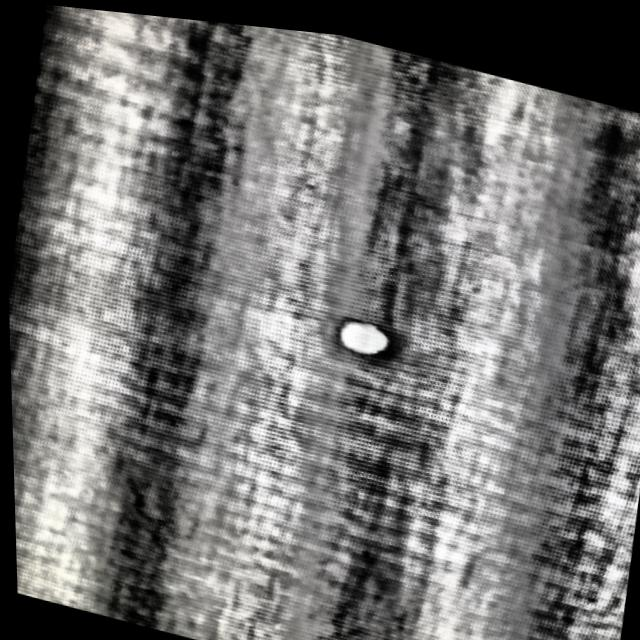Hole: (306, 292, 418, 369)
